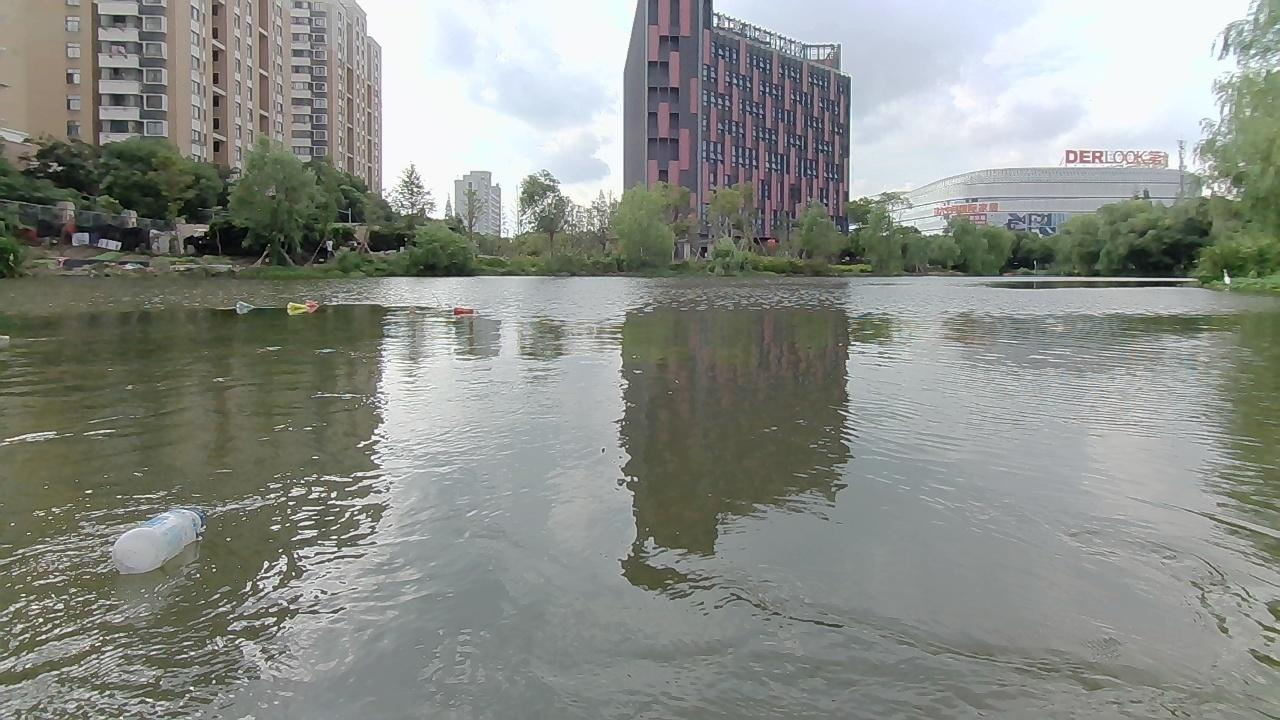bottle: (113, 505, 207, 571), (452, 305, 482, 322), (281, 302, 309, 316), (233, 302, 256, 316), (305, 298, 321, 313)
